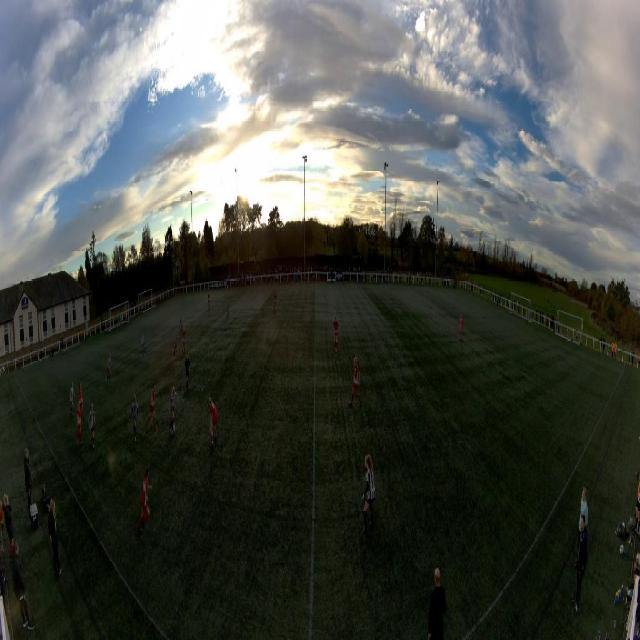ball: (172, 424, 176, 433)
player: (360, 455, 376, 536), (138, 470, 153, 528), (349, 356, 362, 408), (147, 384, 158, 433), (209, 396, 217, 447), (169, 387, 178, 432), (76, 401, 83, 449), (89, 405, 96, 447), (132, 392, 138, 439), (185, 351, 191, 392), (333, 316, 339, 353), (70, 381, 76, 417), (78, 383, 84, 415), (181, 328, 187, 356), (107, 354, 112, 383), (140, 331, 145, 358), (173, 336, 178, 358), (459, 314, 463, 341), (179, 312, 183, 331), (273, 293, 277, 311), (227, 301, 230, 319), (119, 313, 122, 330), (208, 293, 210, 310)
